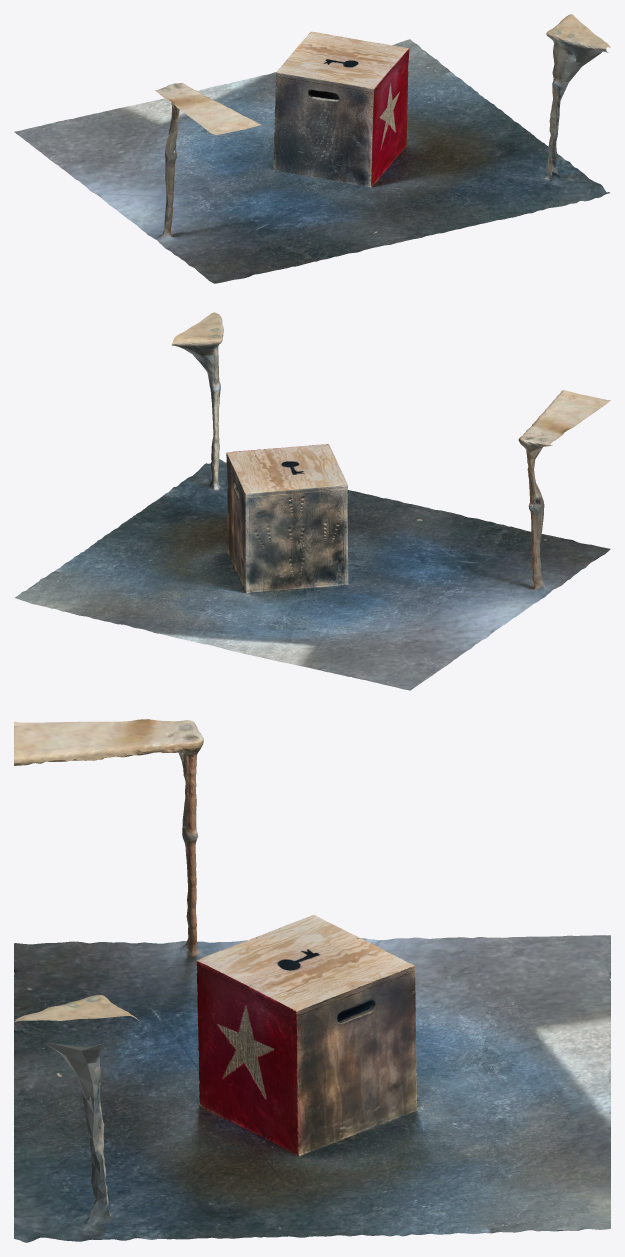
The model's file is star-module.web.glb.
3 renders of one model, top to bottom at view 1: azimuth 30°, elevation 25°; view 2: azimuth 150°, elevation 25°; view 3: azimuth 270°, elevation 25°, orthographic. The views are drawn at different scales.
Bounding box in the file's own units: 4.87 × 1.86 × 4.27.
Materials: 1 (1 with a texture image).
